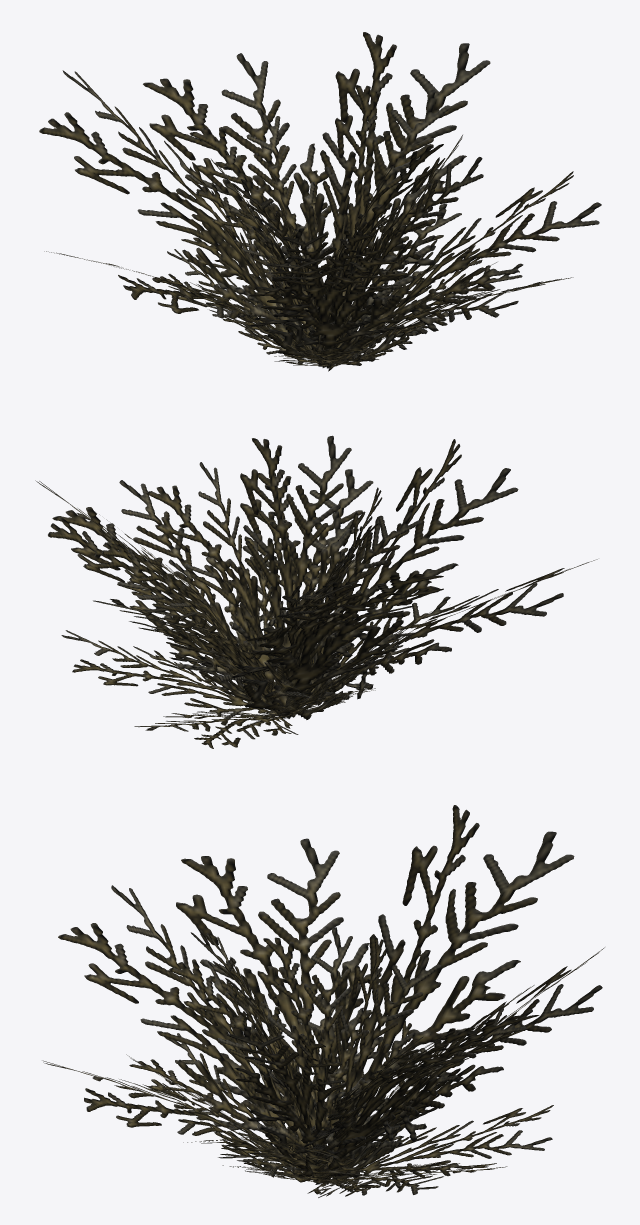
The model's file is ThornBush.fbx.
3 views of the same model, one above another, from view 1: azimuth 30°, elevation 25°; view 2: azimuth 150°, elevation 25°; view 3: azimuth 270°, elevation 25° (orthographic). The views are drawn at different scales.
Visible parts, largest first — view 1: ThornBush; view 2: ThornBush; view 3: ThornBush.
Boxes of the visible parts, x1,y1,x2,y2 form: ThornBush: (39,32,601,371); ThornBush: (35,435,597,748); ThornBush: (42,805,604,1197).
Size of the model in its own units: 753 by 330 by 664.
Materials: 1 (1 with a texture image).
